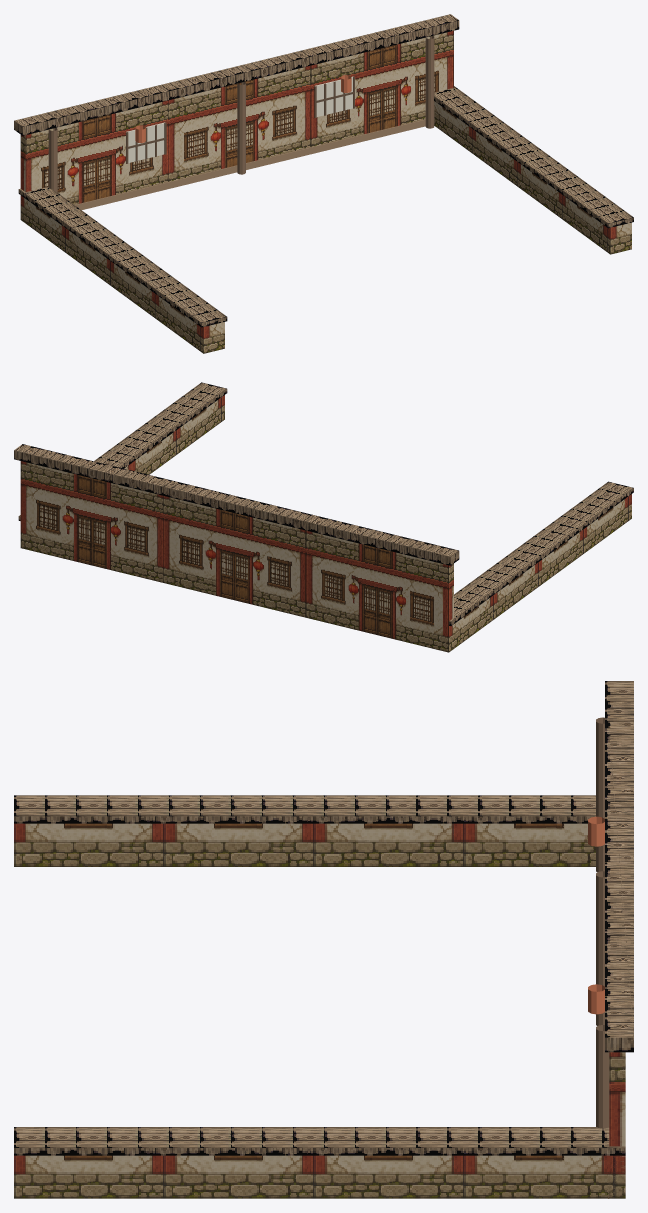
File: rm_shop.glb
3 views of the same model, one above another, from view 1: azimuth 30°, elevation 25°; view 2: azimuth 150°, elevation 25°; view 3: azimuth 270°, elevation 25° (orthographic). The views are drawn at different scales.
Parts seen in each view (by area): view 1: wall, beam, side, trim, post, paper, lat; view 2: wall, beam, side; view 3: side, beam, post, wall, lamp.
Boxes of the visible parts, x1,y1,x2,y2 form: wall: [20, 30, 453, 222]; beam: [14, 14, 633, 327]; side: [20, 101, 631, 353]; trim: [25, 119, 425, 220]; post: [48, 36, 434, 192]; paper: [126, 76, 353, 162]; lat: [126, 76, 354, 163]; wall: [20, 461, 453, 652]; beam: [14, 382, 633, 625]; side: [124, 395, 631, 652]; side: [14, 823, 625, 1198]; beam: [14, 681, 633, 1155]; post: [596, 717, 609, 1128]; wall: [609, 1052, 625, 1198]; lamp: [588, 816, 604, 1014].
Size of the model in its own units: 204 by 44 by 150.
8 materials, 3 textured.
